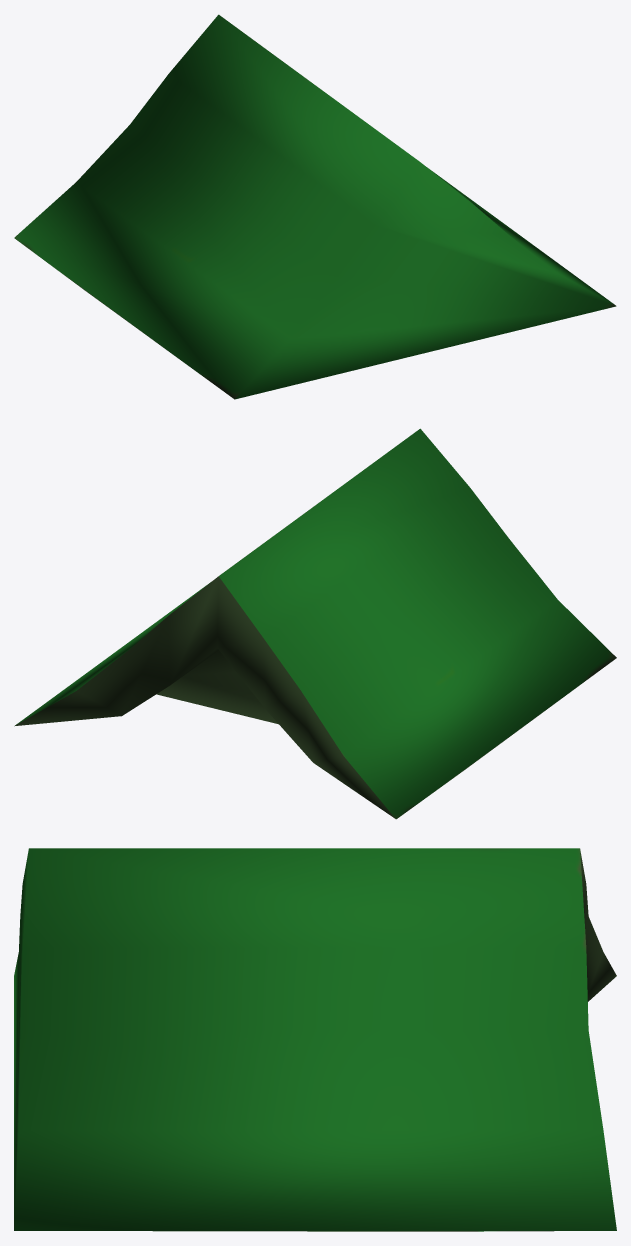
Rendered from MainBase_Tier1.fbx.
3 renders of one model, top to bottom at view 1: azimuth 30°, elevation 25°; view 2: azimuth 150°, elevation 25°; view 3: azimuth 270°, elevation 25°, orthographic. The views are drawn at different scales.
Visible parts, largest first — view 1: Tent; view 2: Tent; view 3: Tent.
Part boxes in pixels (x1,y1,x2,y2): Tent: [14, 14, 616, 399]; Tent: [14, 428, 616, 819]; Tent: [14, 848, 616, 1231].
Bounding box in the file's own units: 2 × 2 × 0.9372.
Materials: 1 (1 with a texture image).
